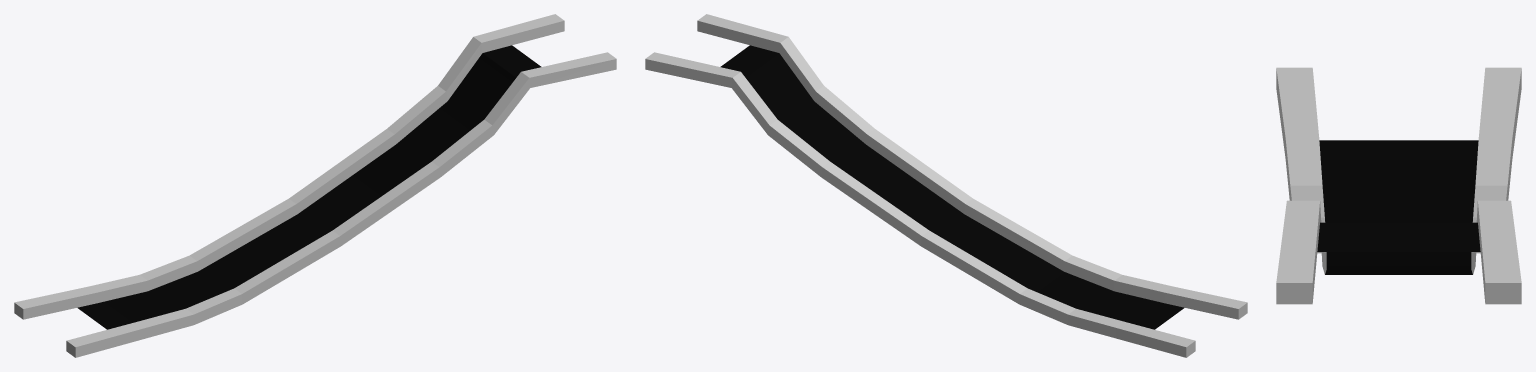
The model's file is cave_bridge_tansition_collision_03.fbx.
3 views of the same model, side by side, from view 1: azimuth 30°, elevation 25°; view 2: azimuth 150°, elevation 25°; view 3: azimuth 270°, elevation 25° (orthographic). The views are drawn at different scales.
Visible parts, largest first — view 1: cave_bridge_tansition_collision_03-0; view 2: cave_bridge_tansition_collision_03-0; view 3: cave_bridge_tansition_collision_03-0.
Part boxes in pixels (left/top/right/bottom): cave_bridge_tansition_collision_03-0: left=14, top=14, right=616, bottom=357; cave_bridge_tansition_collision_03-0: left=645, top=14, right=1247, bottom=357; cave_bridge_tansition_collision_03-0: left=1276, top=67, right=1521, bottom=304.
Bounding box in the file's own units: 19.93 × 5.88 × 3.91.
